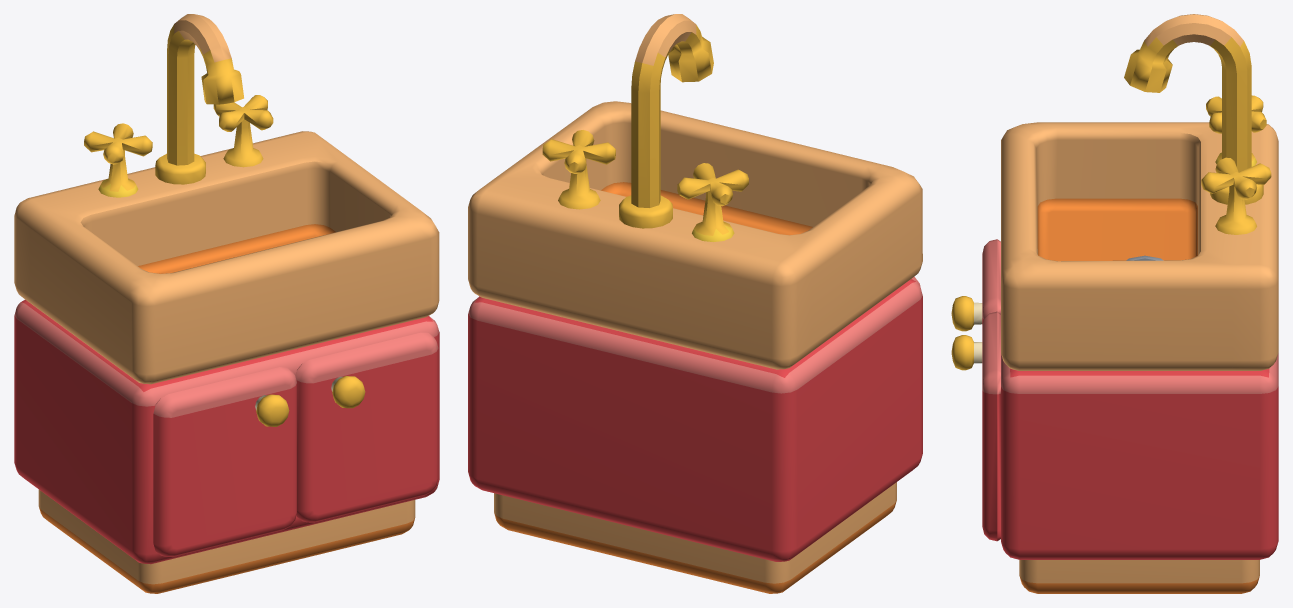
The model's file is pia_cozinha_natal_cuba_pacote.glb.
3 views of the same model, side by side, from view 1: azimuth 30°, elevation 25°; view 2: azimuth 150°, elevation 25°; view 3: azimuth 270°, elevation 25° (orthographic). The views are drawn at different scales.
Parts seen in each view (by area): view 1: pia_cozinha_natal_cuba_pacote, porta_1, porta_2; view 2: pia_cozinha_natal_cuba_pacote; view 3: pia_cozinha_natal_cuba_pacote, porta_2, porta_1.
Boxes of the visible parts, bbox=[...] form: pia_cozinha_natal_cuba_pacote: bbox=[14, 14, 439, 593]; porta_1: bbox=[153, 367, 296, 556]; porta_2: bbox=[295, 332, 438, 522]; pia_cozinha_natal_cuba_pacote: bbox=[468, 14, 922, 593]; pia_cozinha_natal_cuba_pacote: bbox=[1001, 14, 1278, 593]; porta_2: bbox=[951, 311, 1000, 541]; porta_1: bbox=[951, 239, 1000, 331].
Bounding box in the file's own units: 0.8503 × 1.31 × 0.7511.
Materials: 1 (1 with a texture image).
